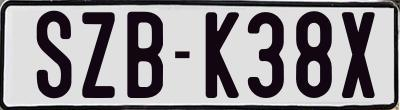3: (248, 9, 289, 95)
8: (294, 8, 335, 95)
B: (126, 10, 165, 97)
K: (203, 9, 242, 97)
S: (35, 9, 75, 99)
X: (342, 9, 375, 95)
Z: (81, 9, 117, 97)
